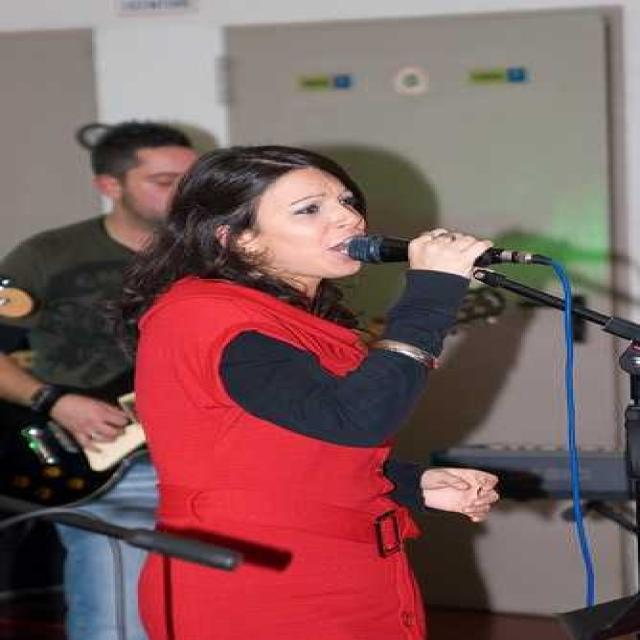microphone: (336, 232, 535, 268)
